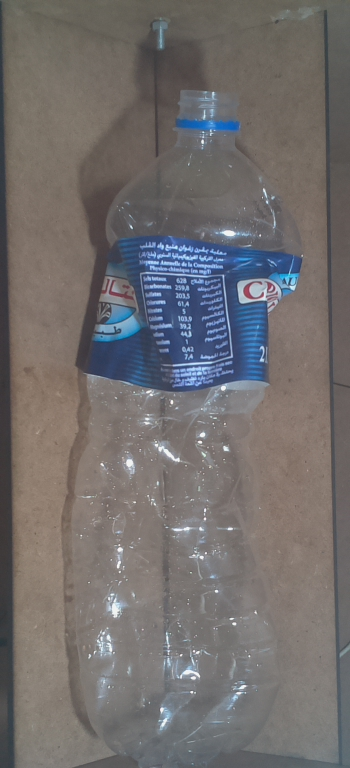Bouteille_2L: (65, 83, 307, 768)
